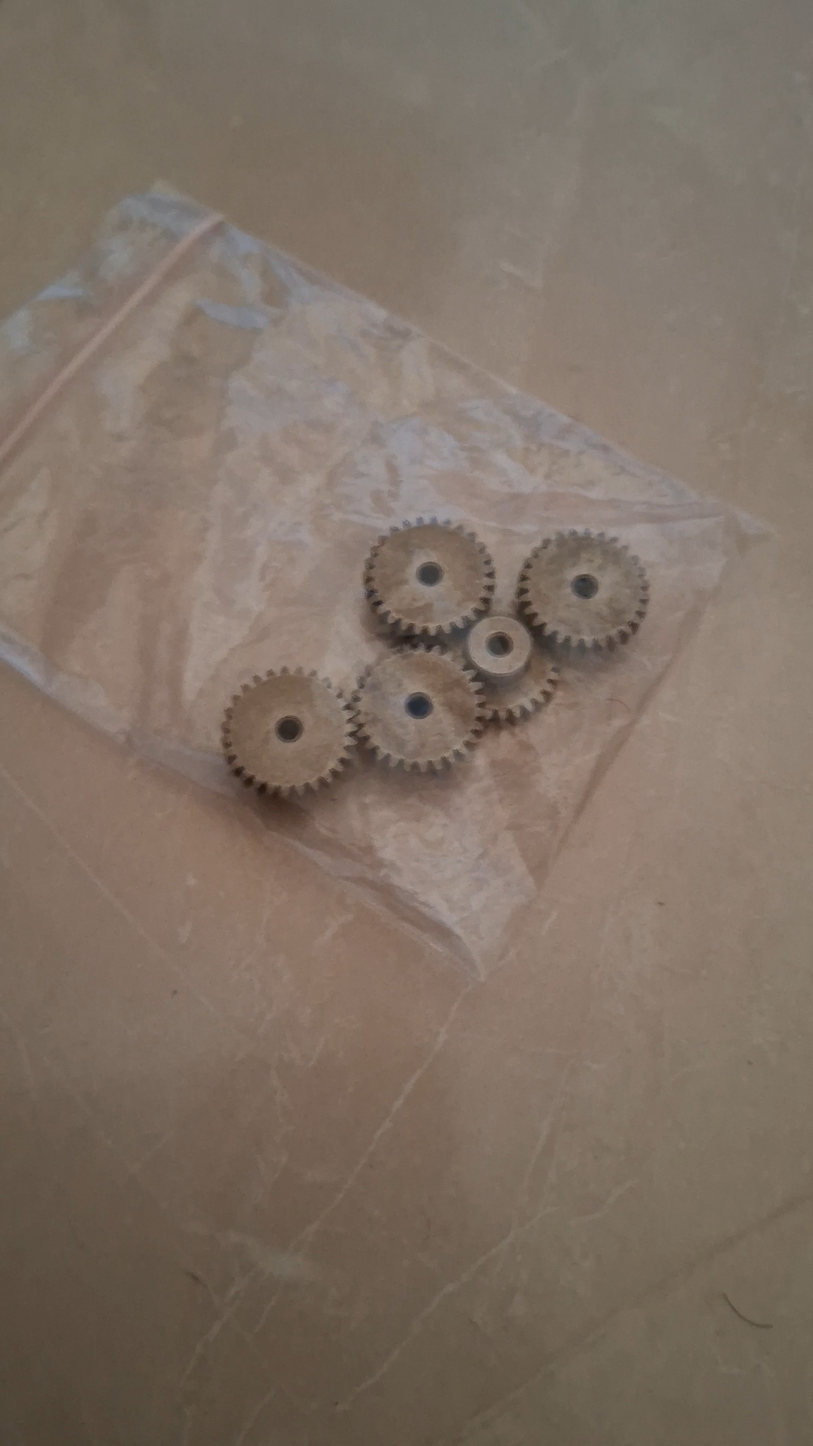spur gear: (222, 668, 356, 797), (353, 647, 487, 772), (364, 518, 495, 640), (517, 530, 648, 649), (465, 615, 559, 722)
